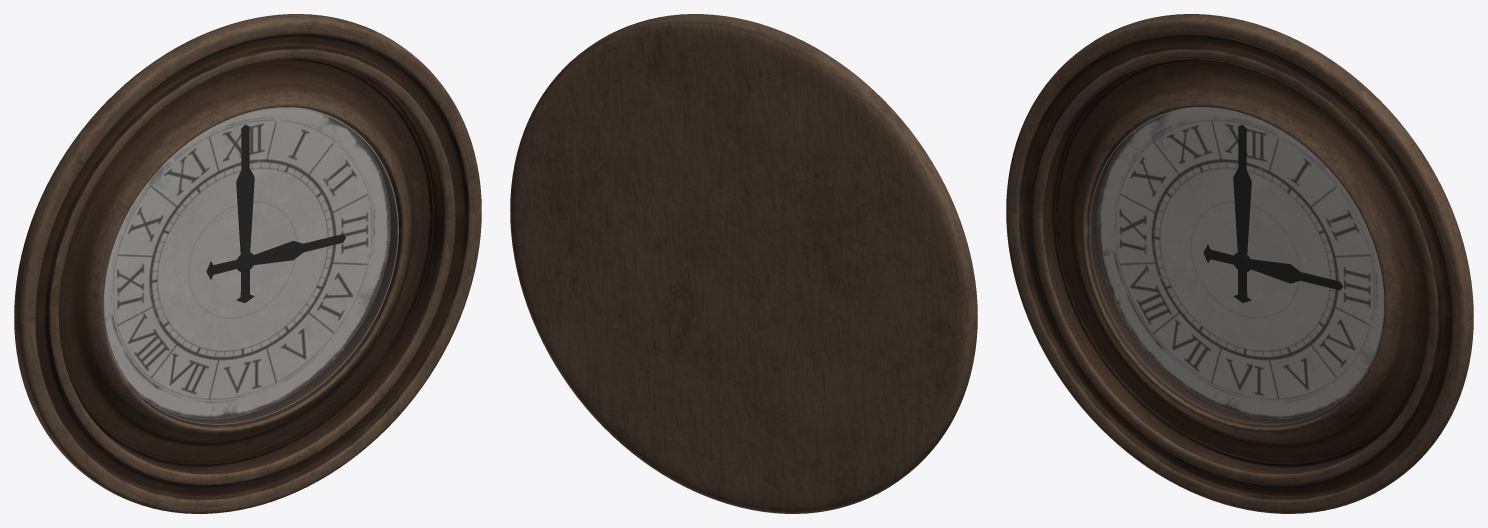
The model's file is old_fashioned_clock_-_4096px2.glb.
3 views of the same model, side by side, from view 1: azimuth 30°, elevation 25°; view 2: azimuth 150°, elevation 25°; view 3: azimuth 330°, elevation 25° (orthographic).
Visible parts, largest first — view 1: Clock, Clock Hour Pointer _Clock_MTL_0, Clock Minute Pointer; view 2: Clock; view 3: Clock, Clock Hour Pointer _Clock_MTL_0, Clock Minute Pointer.
Boxes of the visible parts, left/top/right/bottom form: Clock: left=14, top=14, right=481, bottom=513; Clock Hour Pointer _Clock_MTL_0: left=236, top=124, right=254, bottom=302; Clock Minute Pointer: left=206, top=234, right=345, bottom=279; Clock: left=510, top=14, right=977, bottom=513; Clock: left=1006, top=14, right=1473, bottom=513; Clock Hour Pointer _Clock_MTL_0: left=1233, top=124, right=1251, bottom=302; Clock Minute Pointer: left=1203, top=244, right=1342, bottom=290.
Bounding box in the file's own units: 0.7452 × 0.7452 × 0.0333.
1 material, 1 textured.
